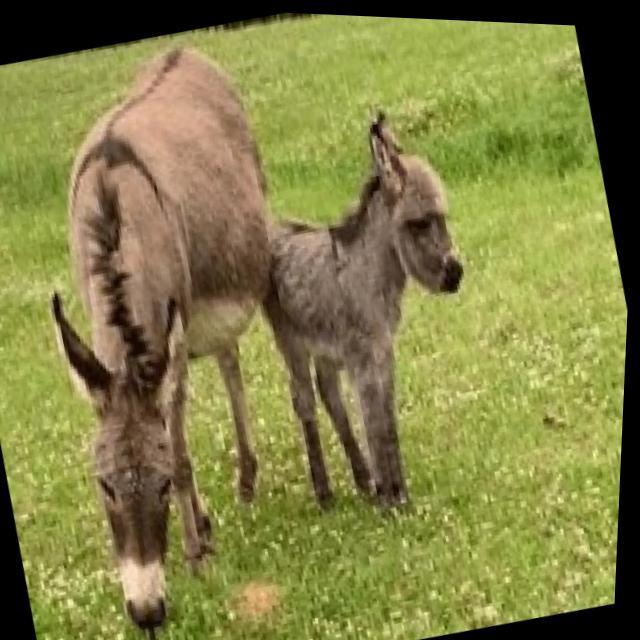Donkey: (0, 19, 369, 640), (216, 88, 521, 530)
